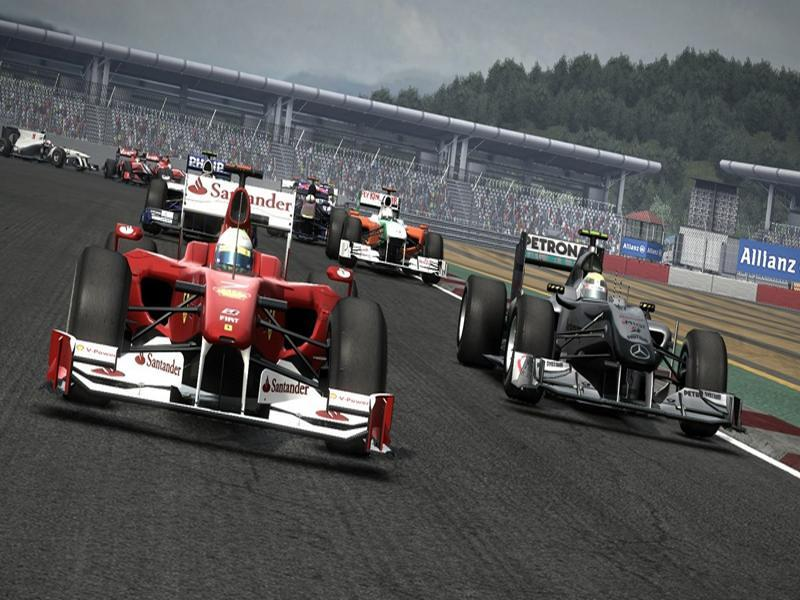f1: (55, 165, 418, 454), (444, 213, 762, 452), (329, 185, 451, 282), (275, 170, 337, 241)
